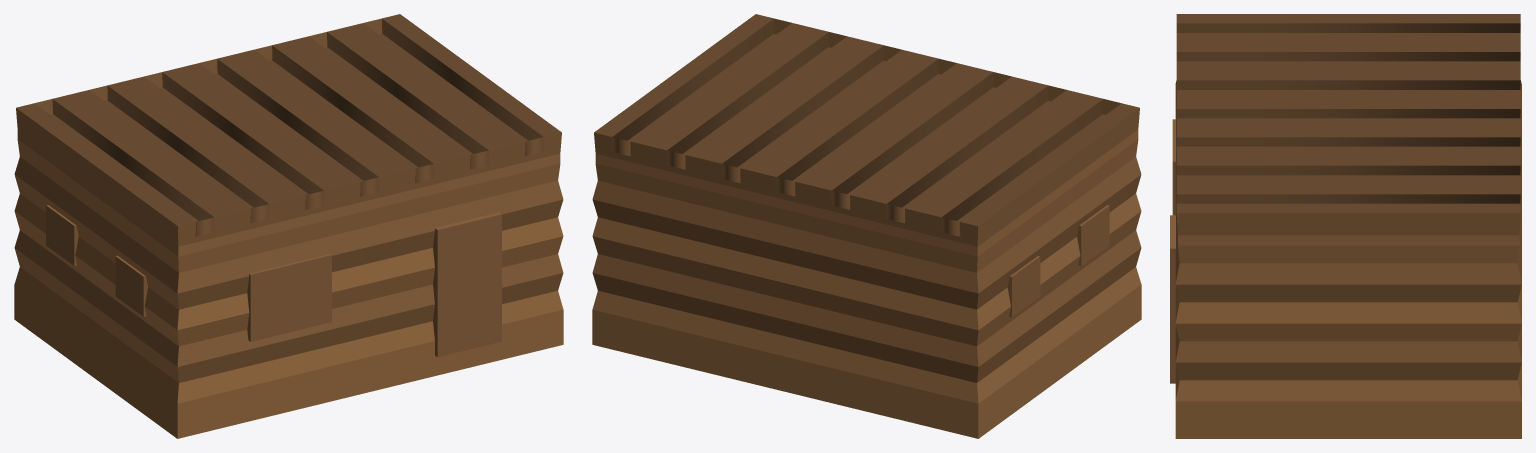
The model's file is House_Inside.fbx.
The picture shows the model from 3 angles, left to right: view 1: azimuth 30°, elevation 25°; view 2: azimuth 150°, elevation 25°; view 3: azimuth 270°, elevation 25°; orthographic projection. The views are drawn at different scales.
Parts seen in each view (by area): view 1: House; view 2: House; view 3: House.
Boxes of the visible parts, box(x1,y1,x2,y2) form: House: box(14, 14, 563, 438); House: box(592, 14, 1141, 438); House: box(1170, 14, 1521, 438).
Size of the model in its own units: 1082 by 567 by 802.
